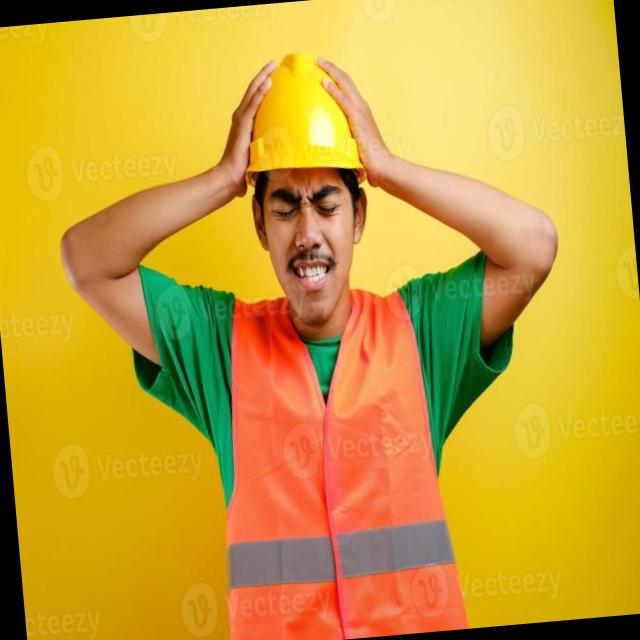Helmet: (203, 226, 466, 640), (225, 33, 388, 189)
